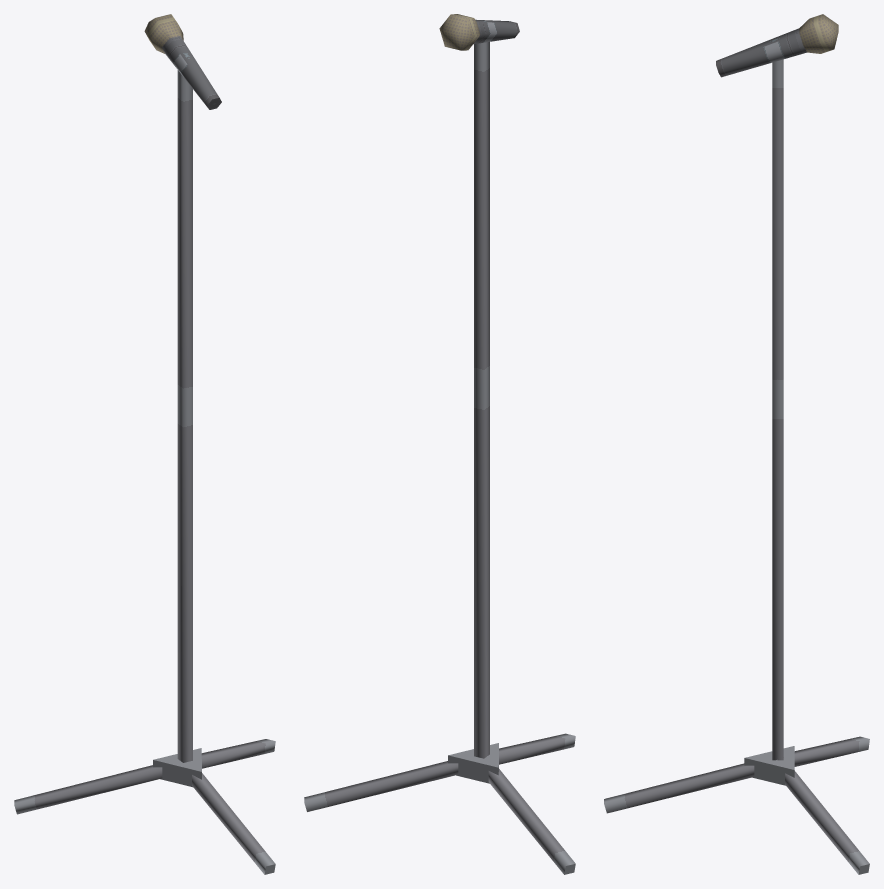
File: 03d5_Microphone_Stand.glb
3 views of the same model, side by side, from view 1: azimuth 30°, elevation 25°; view 2: azimuth 150°, elevation 25°; view 3: azimuth 270°, elevation 25° (orthographic). The views are drawn at different scales.
Visible parts, largest first — view 1: part_0; view 2: part_0; view 3: part_0.
Part boxes in pixels (bbox=[...]): part_0: bbox=[14, 14, 275, 874]; part_0: bbox=[304, 14, 575, 874]; part_0: bbox=[604, 14, 869, 874].
Size of the model in its own units: 0.5306 by 1.51 by 0.4595.
Materials: 1 (1 with a texture image).
